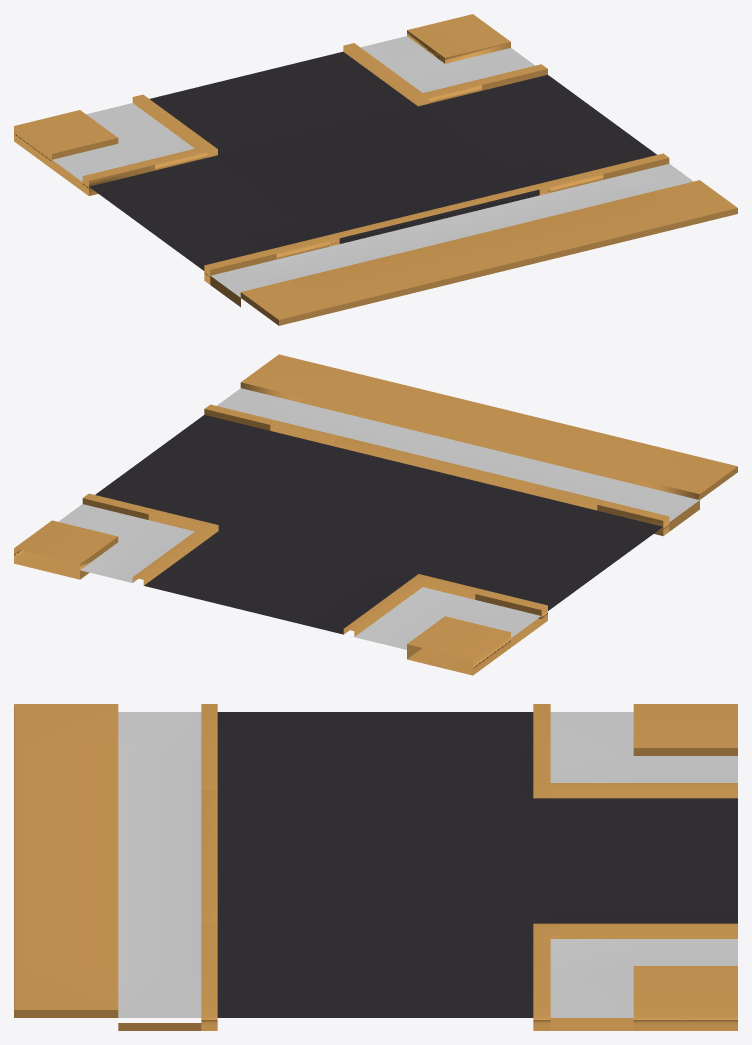
File: T-Inter(fixed).fbx
The picture shows the model from 3 angles, top to bottom: view 1: azimuth 30°, elevation 25°; view 2: azimuth 150°, elevation 25°; view 3: azimuth 270°, elevation 25°; orthographic projection. The views are drawn at different scales.
Parts seen in each view (by area): view 1: Cube.001; view 2: Cube.001; view 3: Cube.001.
Boxes of the visible parts, x1,y1,x2,y2 form: Cube.001: [14, 14, 737, 325]; Cube.001: [14, 354, 737, 675]; Cube.001: [14, 704, 737, 1030].
Bounding box in the file's own units: 695 × 22.29 × 695.
